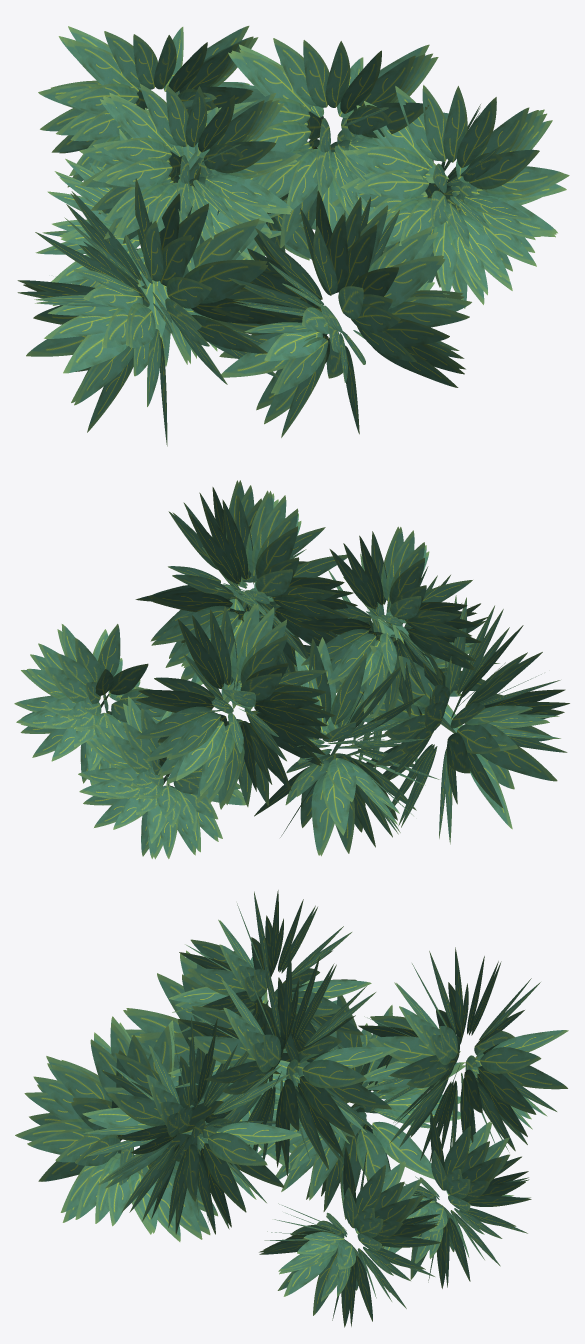
Rendered from bush_1.fbx.
The picture shows the model from 3 angles, top to bottom: view 1: azimuth 30°, elevation 25°; view 2: azimuth 150°, elevation 25°; view 3: azimuth 270°, elevation 25°; orthographic projection. The views are drawn at different scales.
Visible parts, largest first — view 1: eucalyptus_leaf.101; view 2: eucalyptus_leaf.101; view 3: eucalyptus_leaf.101.
Part boxes in pixels (left/top/right/bottom): eucalyptus_leaf.101: left=17, top=26, right=569, bottom=446; eucalyptus_leaf.101: left=14, top=480, right=569, bottom=859; eucalyptus_leaf.101: left=15, top=890, right=568, bottom=1327.
Bounding box in the file's own units: 553 × 332 × 532.
